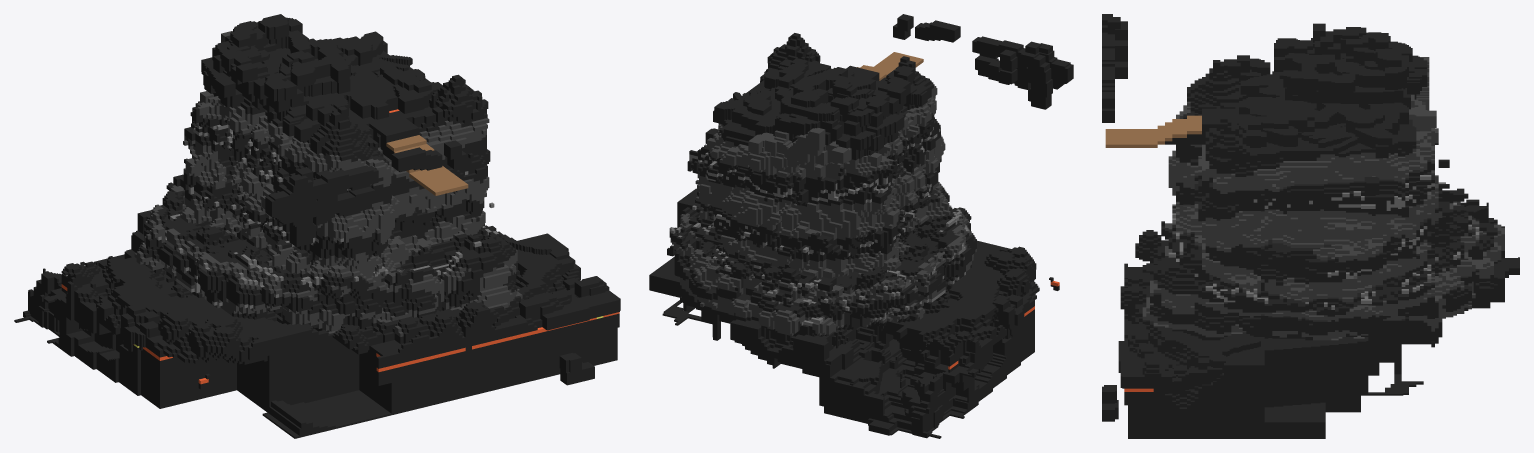
File: Lava_stuff-5.obj
The picture shows the model from 3 angles, left to right: view 1: azimuth 30°, elevation 25°; view 2: azimuth 150°, elevation 25°; view 3: azimuth 270°, elevation 25°; orthographic projection. The views are drawn at different scales.
Size of the model in its own units: 25.6 by 17 by 22.6.
Materials: 1 (1 with a texture image).
